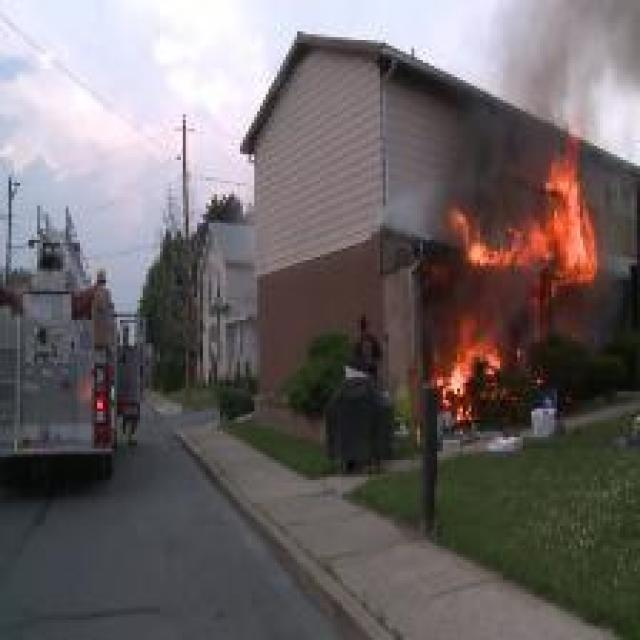Fire: (447, 98, 599, 302), (428, 314, 508, 422)
